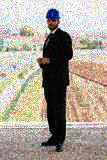helmet: (45, 7, 61, 29)
